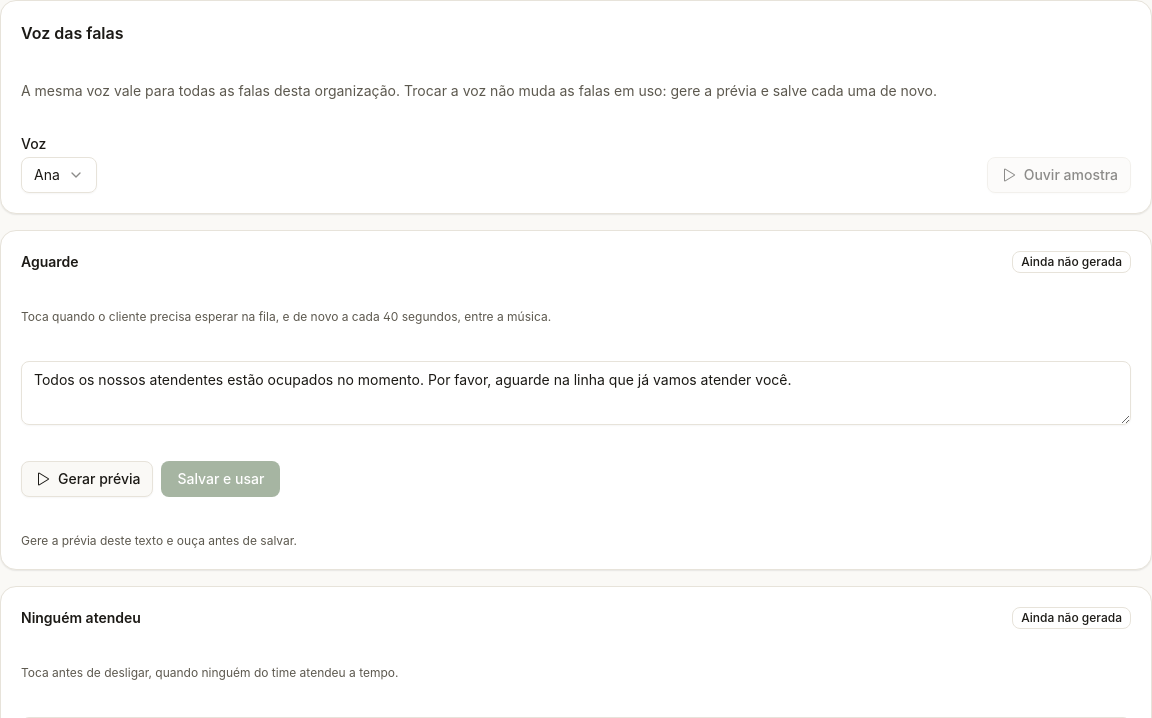
it: aba Voz e falas — as falhas aparecem com o que fazer › o proxy devolveu 504 com HTML na prévia: frase nossa, nunca 'HTTP 504' nem o HTML
Click the button "Gerar prévia" at (87, 479), box top-left (21, 461), bottom-right (153, 497)
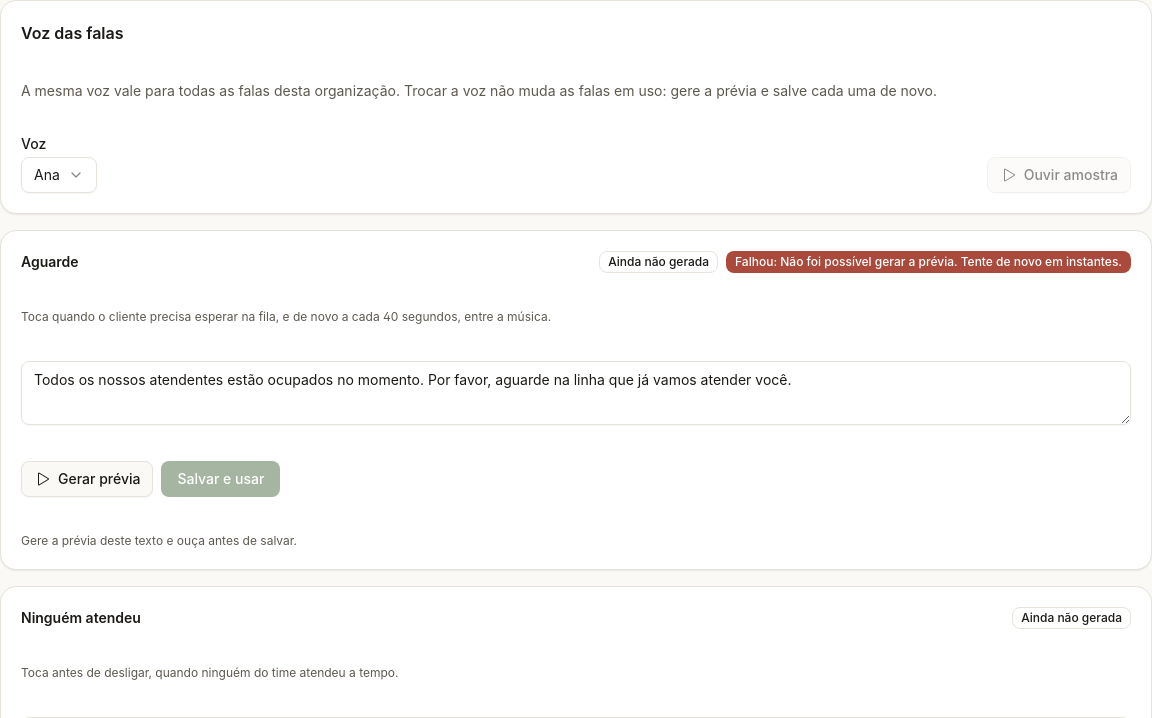
Expected: the text "Não foi possível gerar a prévia. Tente de novo em instantes." is shown, top-left (780, 254), bottom-right (1122, 269)
